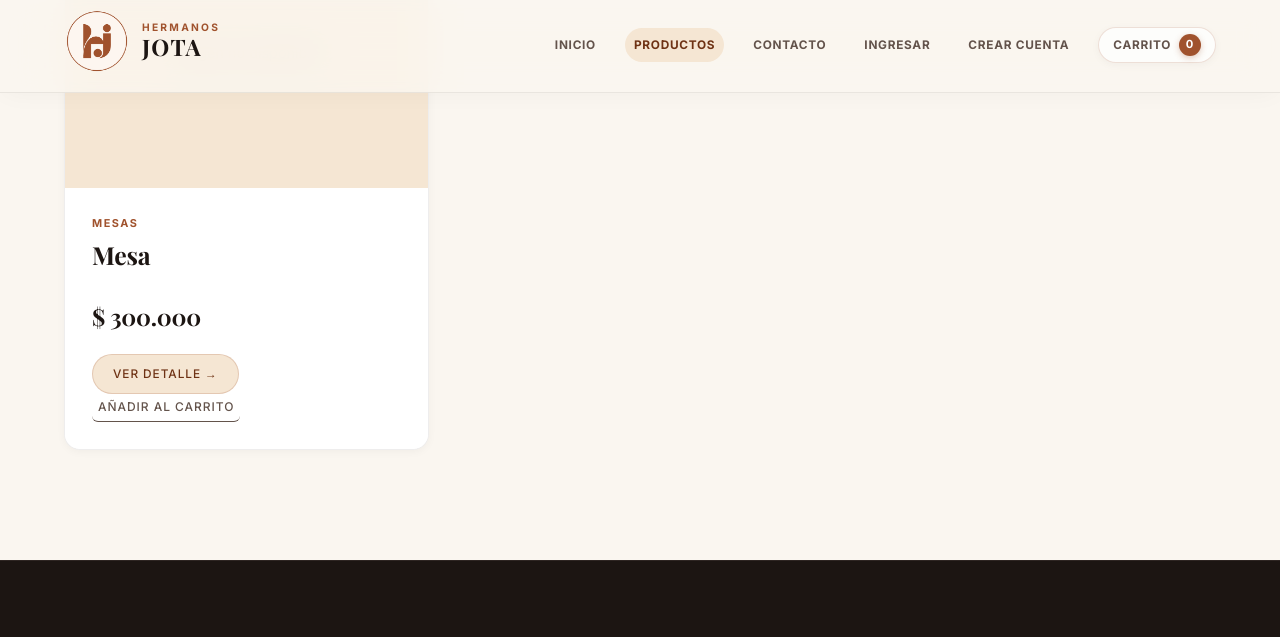
authentication flow › adds a product from the catalog to the cart context
(page scrolled)
Expected: the heading "Mesa" is shown, [92,241,150,269]
Click the button "Añadir al carrito" at x=166, y=408, box [92,395,240,422]
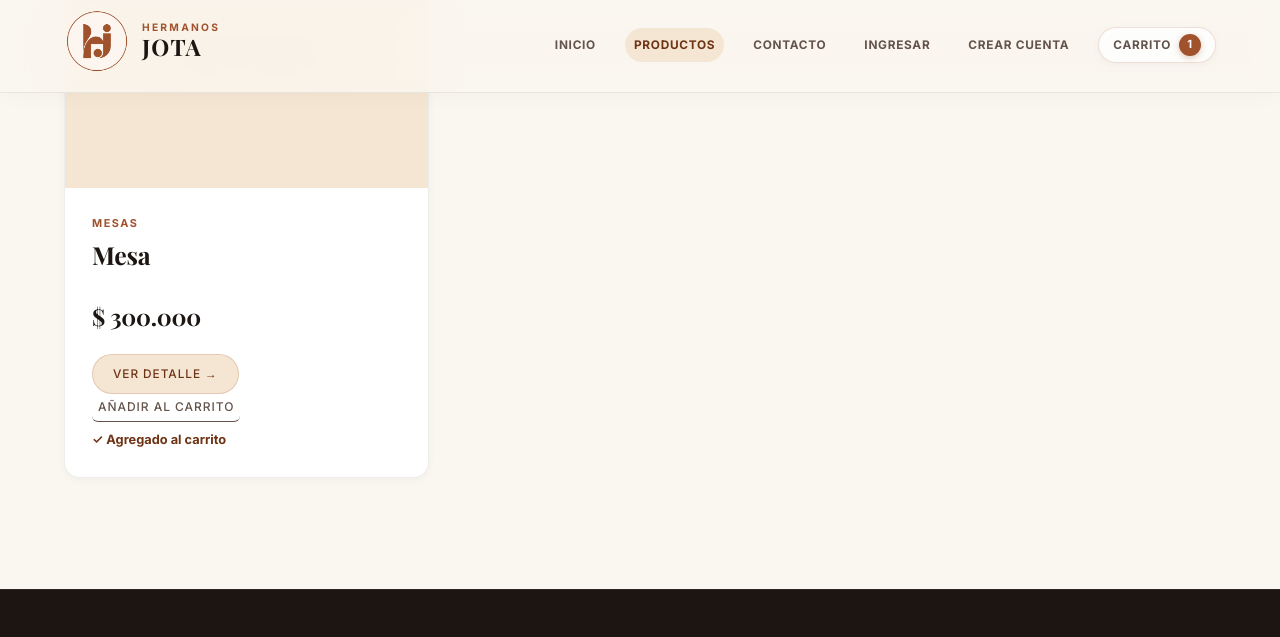
Expected: the message shows "Agregado al carrito", [92,432,226,447]
Expected: the text named "Productos en el carrito" reads "1", [1187,37,1193,51]
